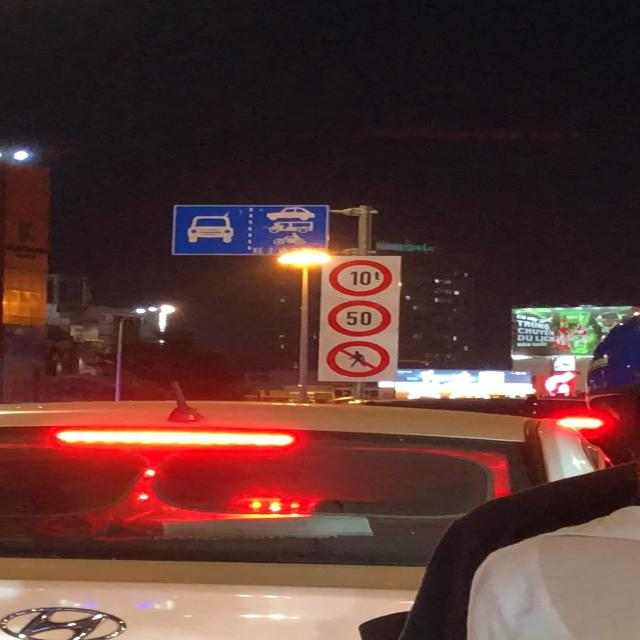Bien bao cam nguoi di bo: (326, 340, 393, 379)
Bien bao toc do toi da cho phep: (326, 300, 394, 338)
